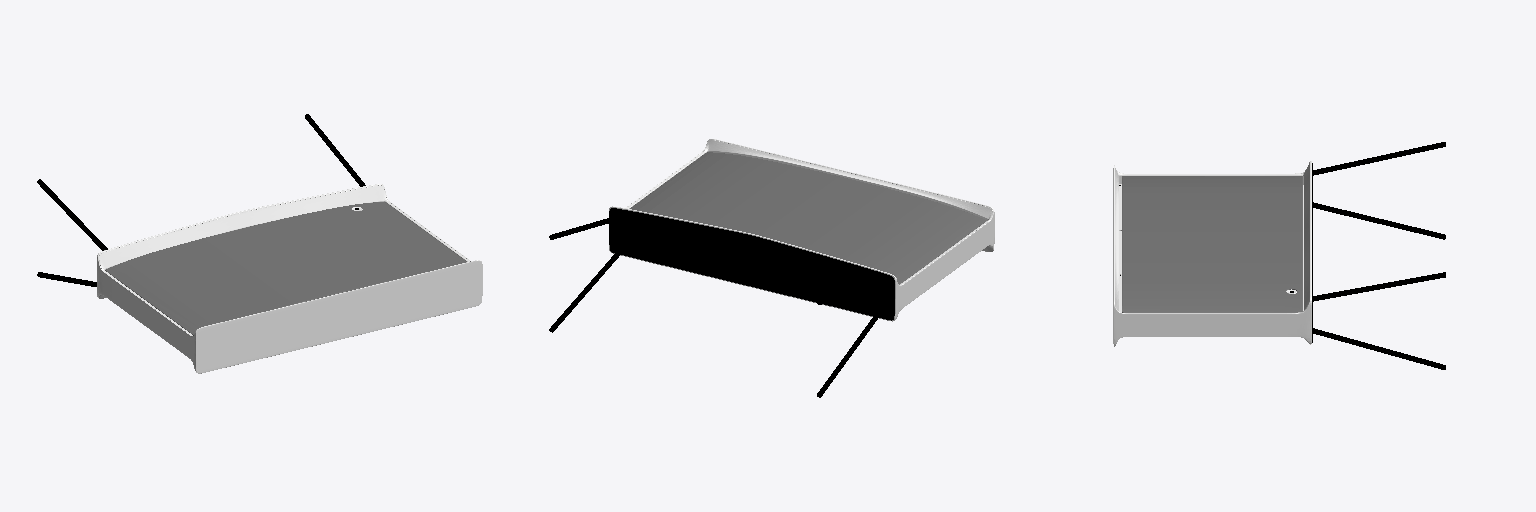
File: Samsung_Serif_TV_40_mat(1).obj
The picture shows the model from 3 angles: view 1: azimuth 30°, elevation 25°; view 2: azimuth 150°, elevation 25°; view 3: azimuth 270°, elevation 25°; orthographic projection.
Visible parts, largest first — view 1: Samsung_Serif_TV_40_mat1; view 2: Samsung_Serif_TV_40_mat1; view 3: Samsung_Serif_TV_40_mat1.
Boxes of the visible parts, <box> form: Samsung_Serif_TV_40_mat1: <box>37,114,482,373</box>; Samsung_Serif_TV_40_mat1: <box>549,139,994,397</box>; Samsung_Serif_TV_40_mat1: <box>1113,142,1445,369</box>.
Bounding box in the file's own units: 93.09 × 30.22 × 93.38.